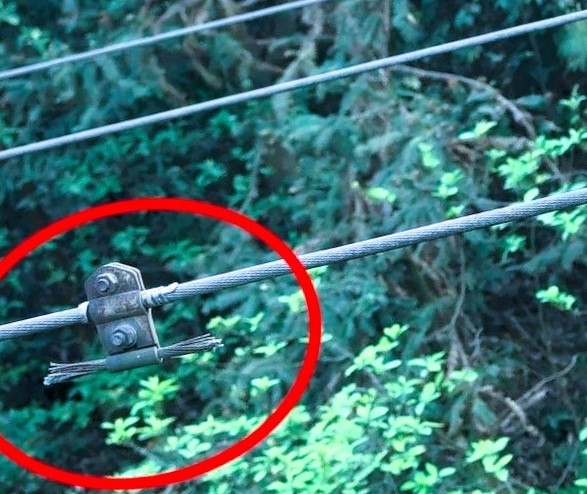Damage of shockproof hammer: (38, 249, 226, 400)
